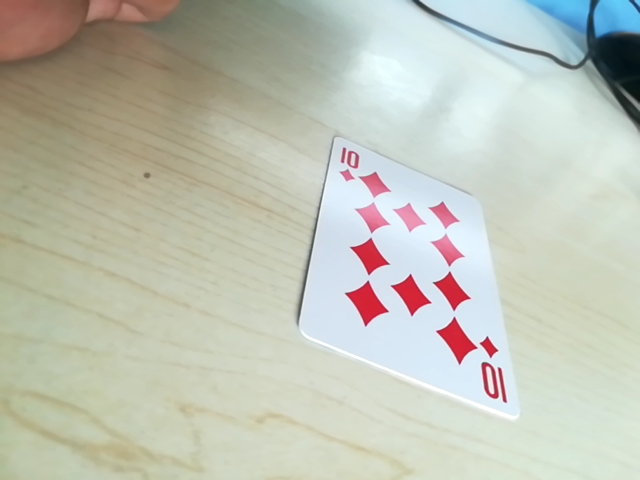fk 10: (329, 137, 380, 195), (470, 358, 512, 414)
